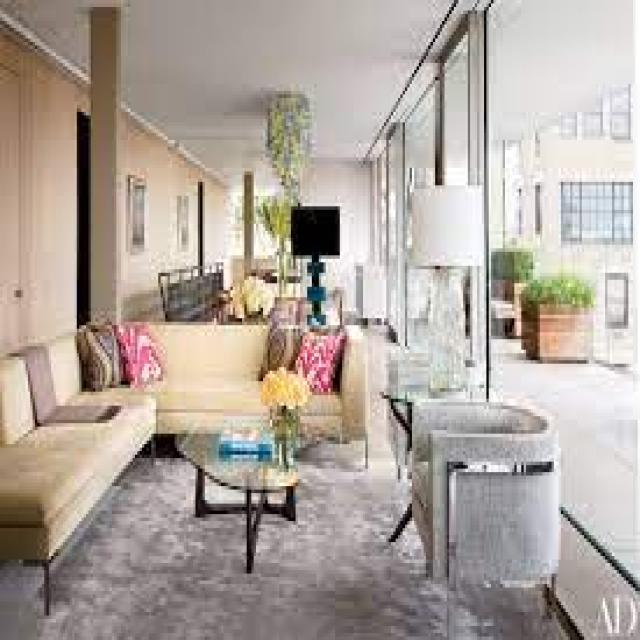Chair: (399, 372, 579, 628)
Lamp: (409, 175, 493, 398)
Sofa: (100, 296, 385, 461), (0, 331, 164, 591)
Table: (173, 408, 315, 574)
